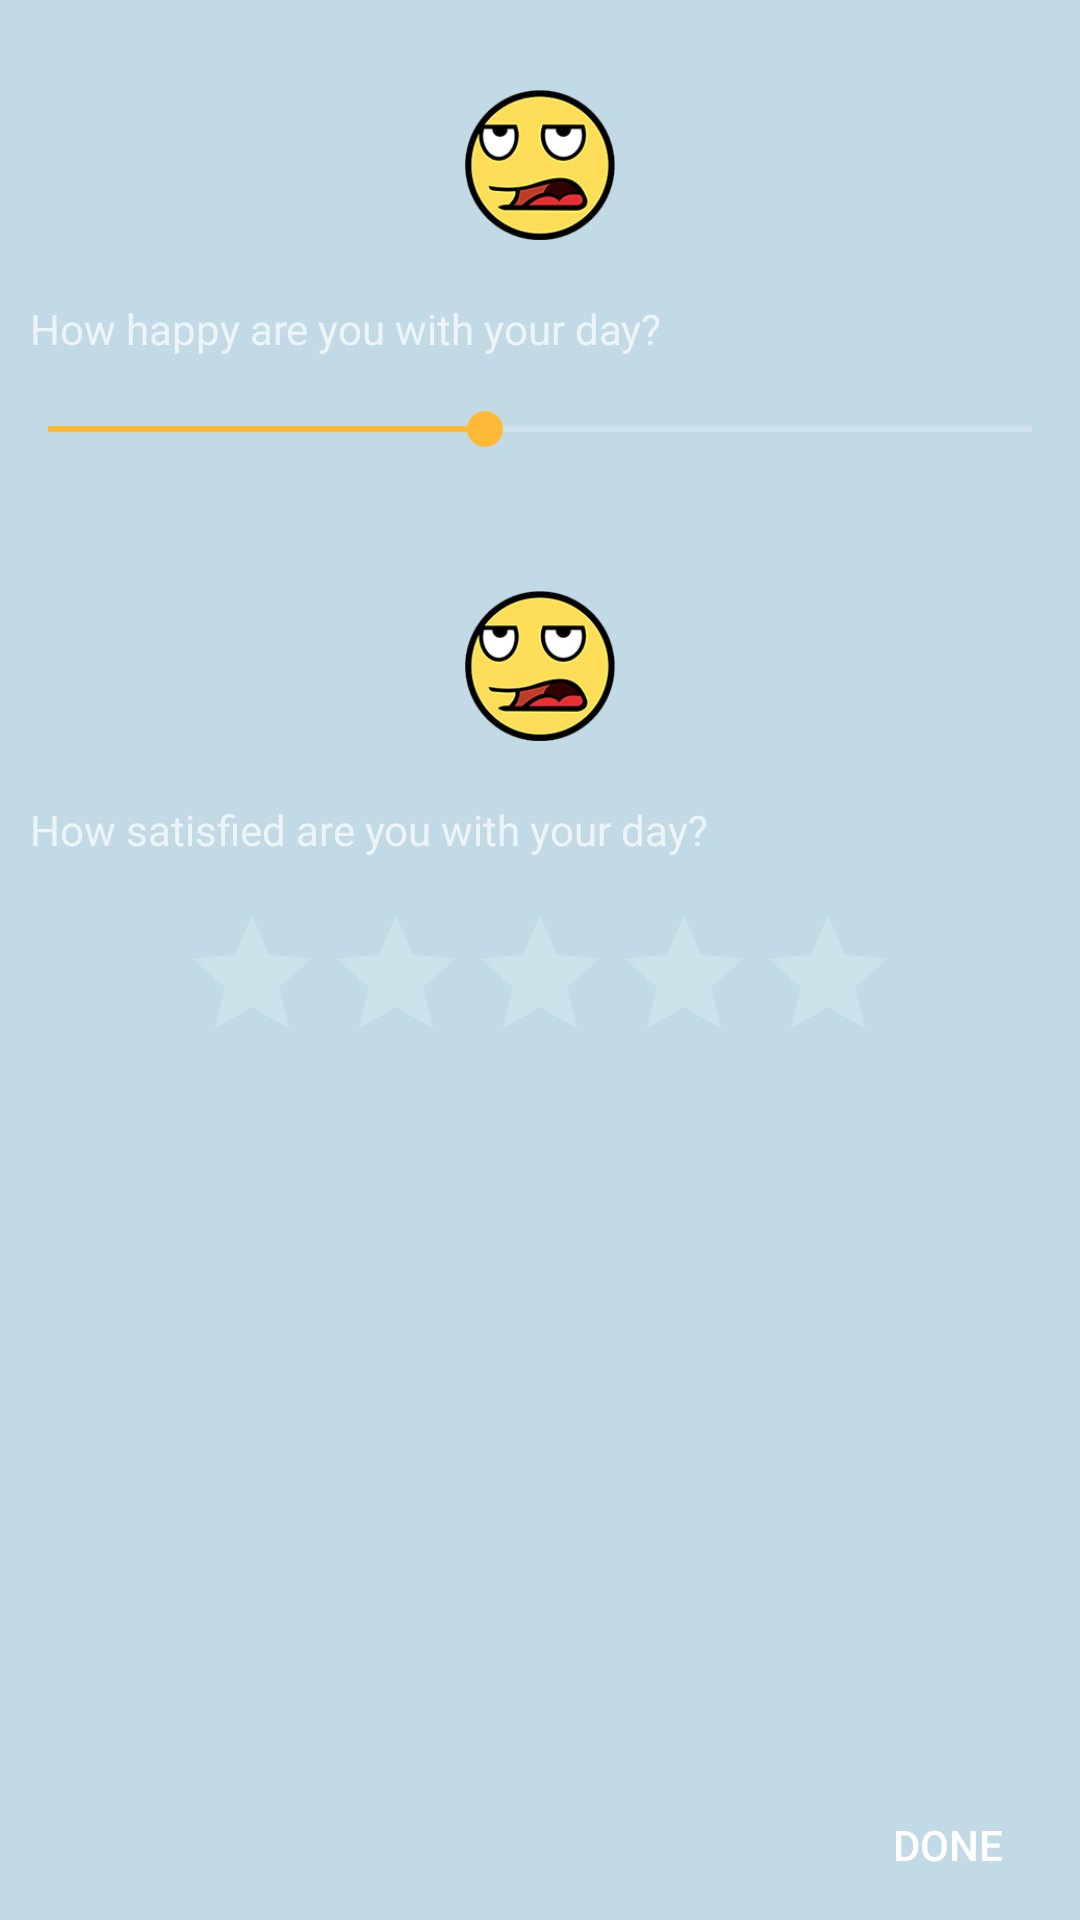

Icons on this 1080×1920 Android screen, each with the point to tap as (x,y):
faces: (540,165)
meh: (540,666)
